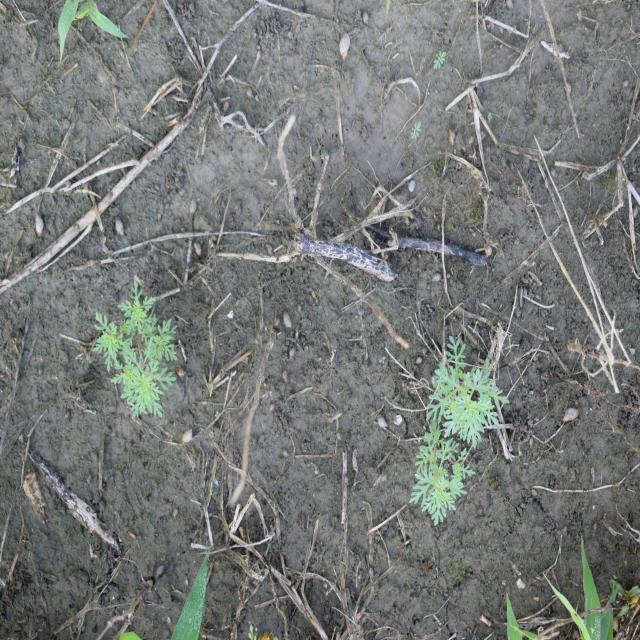Ragweed: (408, 333, 511, 528), (91, 278, 179, 422)
